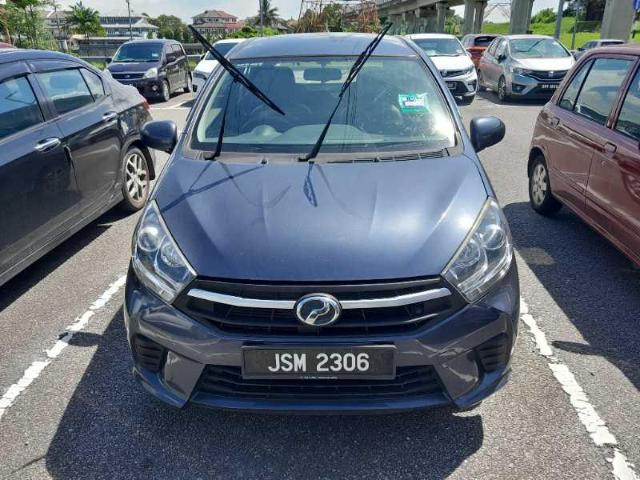License_Plate: (241, 345, 397, 381)
car: (124, 31, 522, 416)
